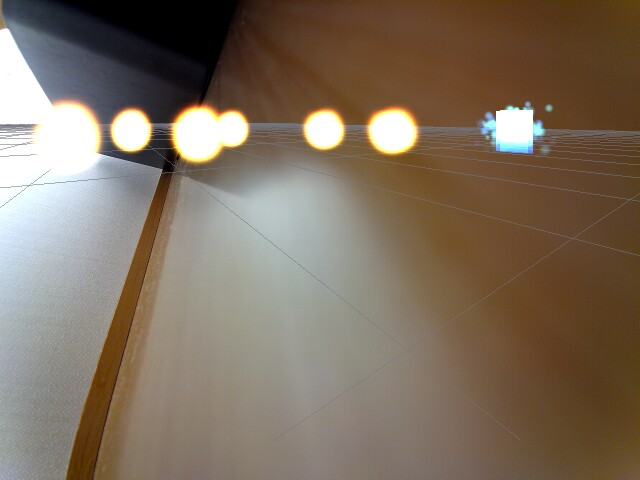firebig: (27, 99, 100, 183)
